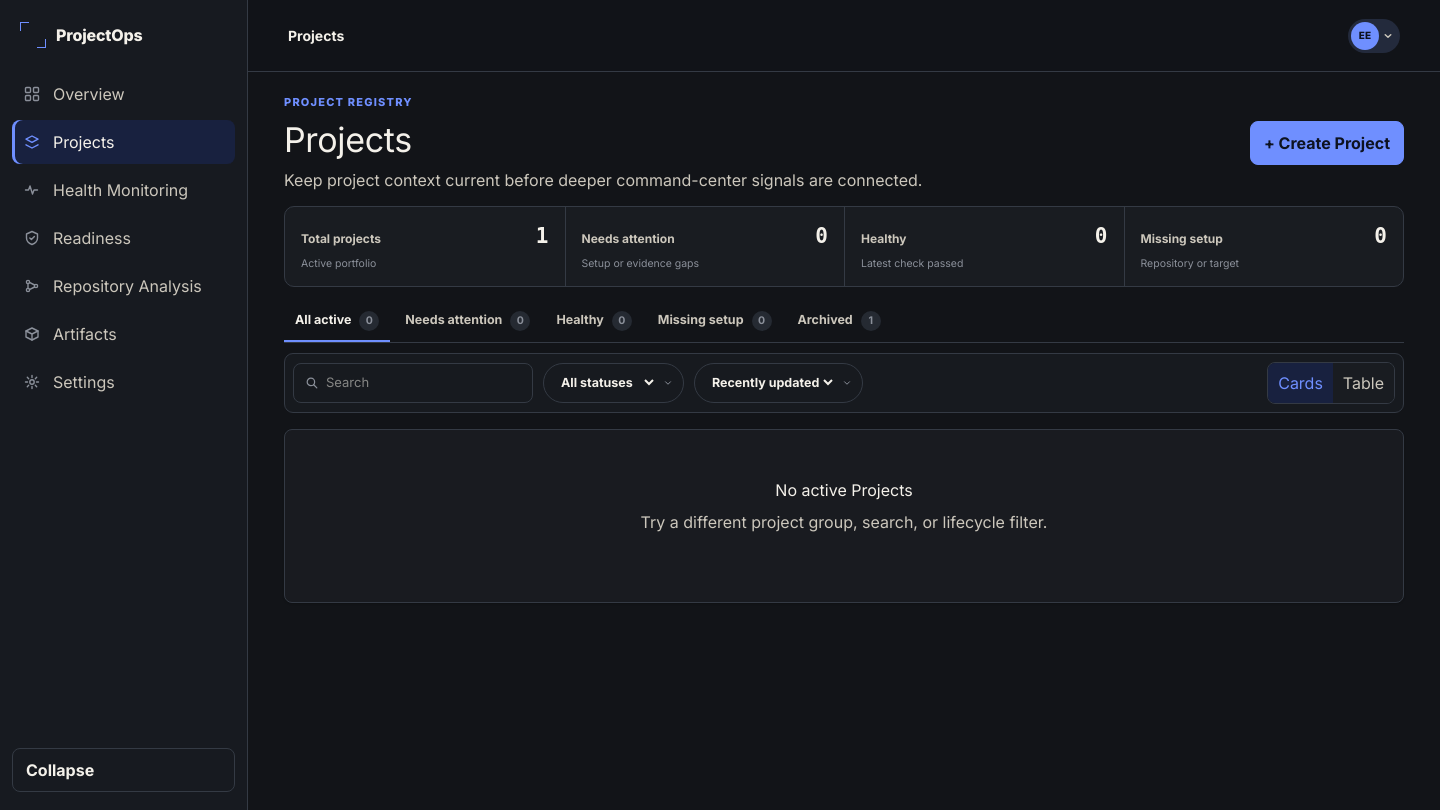
Test: Archive Project flow › shows archived Projects only when archived records are included
Check: the heading "No active Projects" is shown, box [775,480,913,500]
Click the button "Archived 1" at (839, 321), box [786,301,892,342]
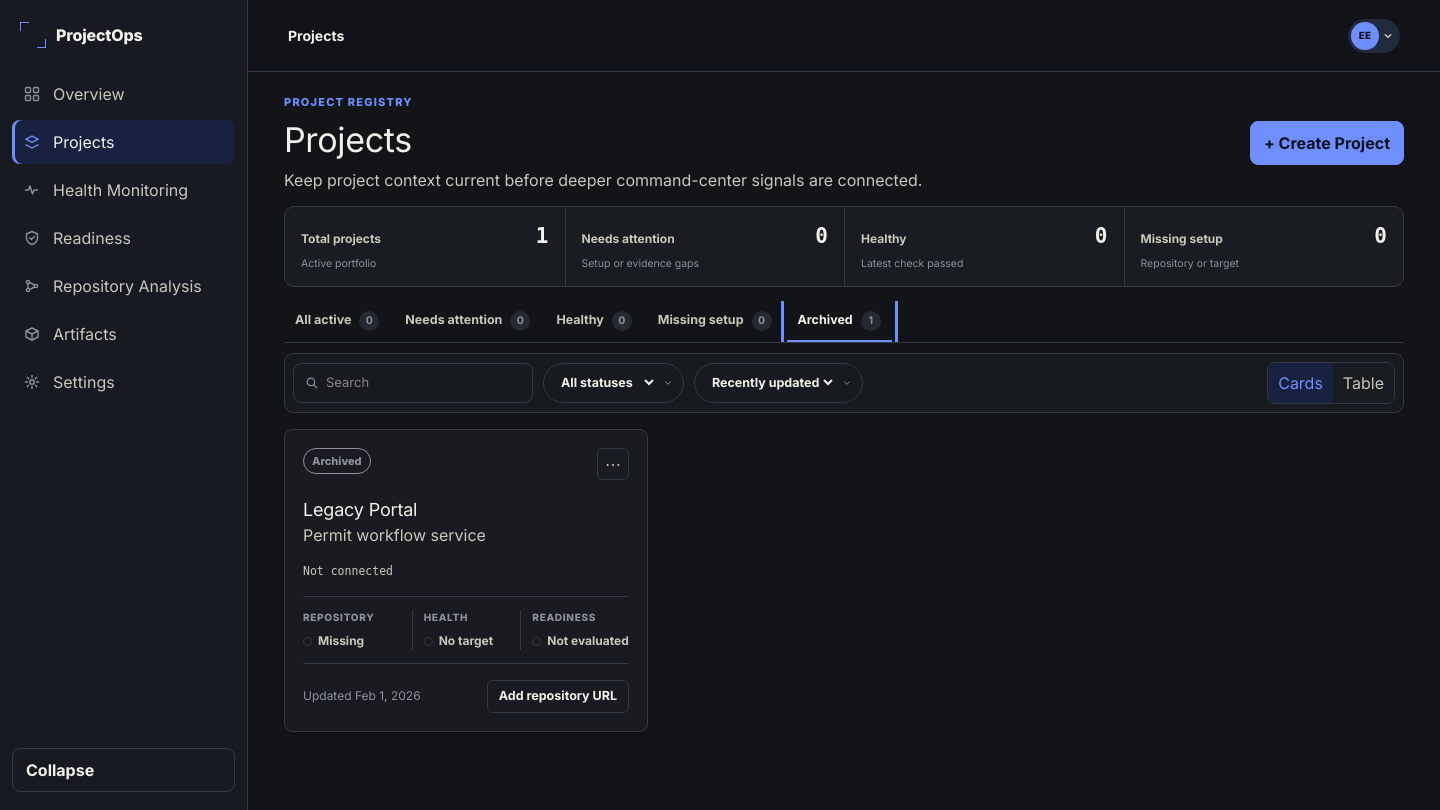
Check: the link "Legacy Portal" is shown, box [303,499,417,520]
